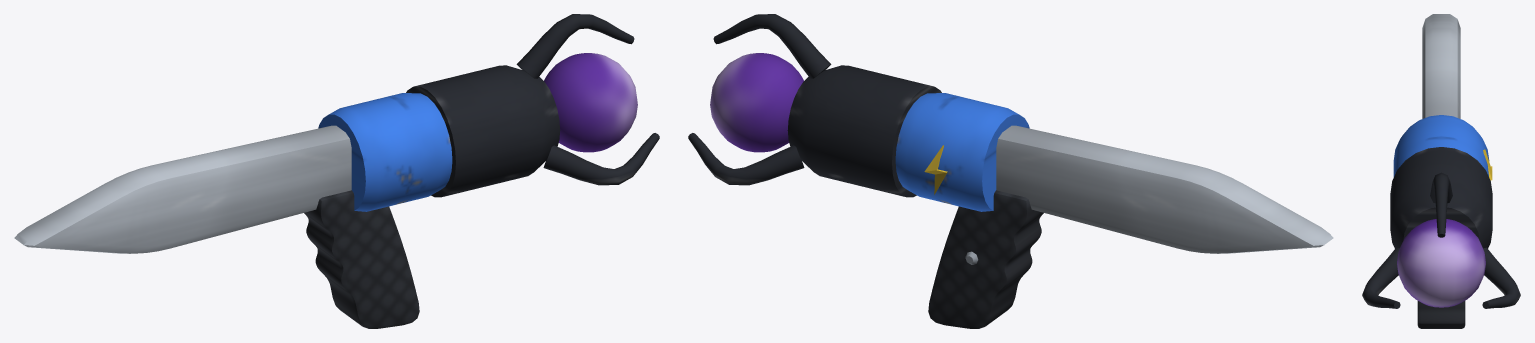
The model's file is VoidGenerator.fbx.
3 views of the same model, side by side, from view 1: azimuth 30°, elevation 25°; view 2: azimuth 150°, elevation 25°; view 3: azimuth 270°, elevation 25° (orthographic). The views are drawn at different scales.
Parts seen in each view (by area): view 1: VoidGenerator; view 2: VoidGenerator; view 3: VoidGenerator.
Part boxes in pixels (x1=…): VoidGenerator: x1=14, y1=14, x2=659, y2=328; VoidGenerator: x1=688, y1=14, x2=1333, y2=328; VoidGenerator: x1=1362, y1=14, x2=1520, y2=328.
Bounding box in the file's own units: 0.994 × 0.3986 × 0.2491.
7 materials, 7 textured.
